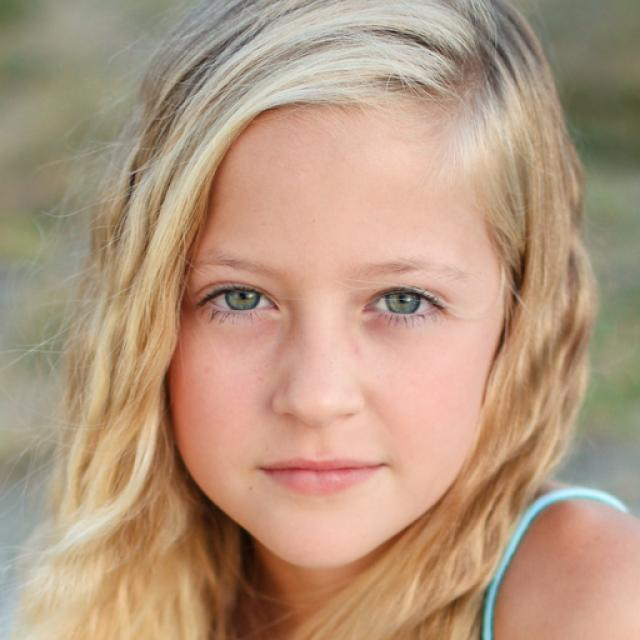content: (166, 97, 505, 568)
